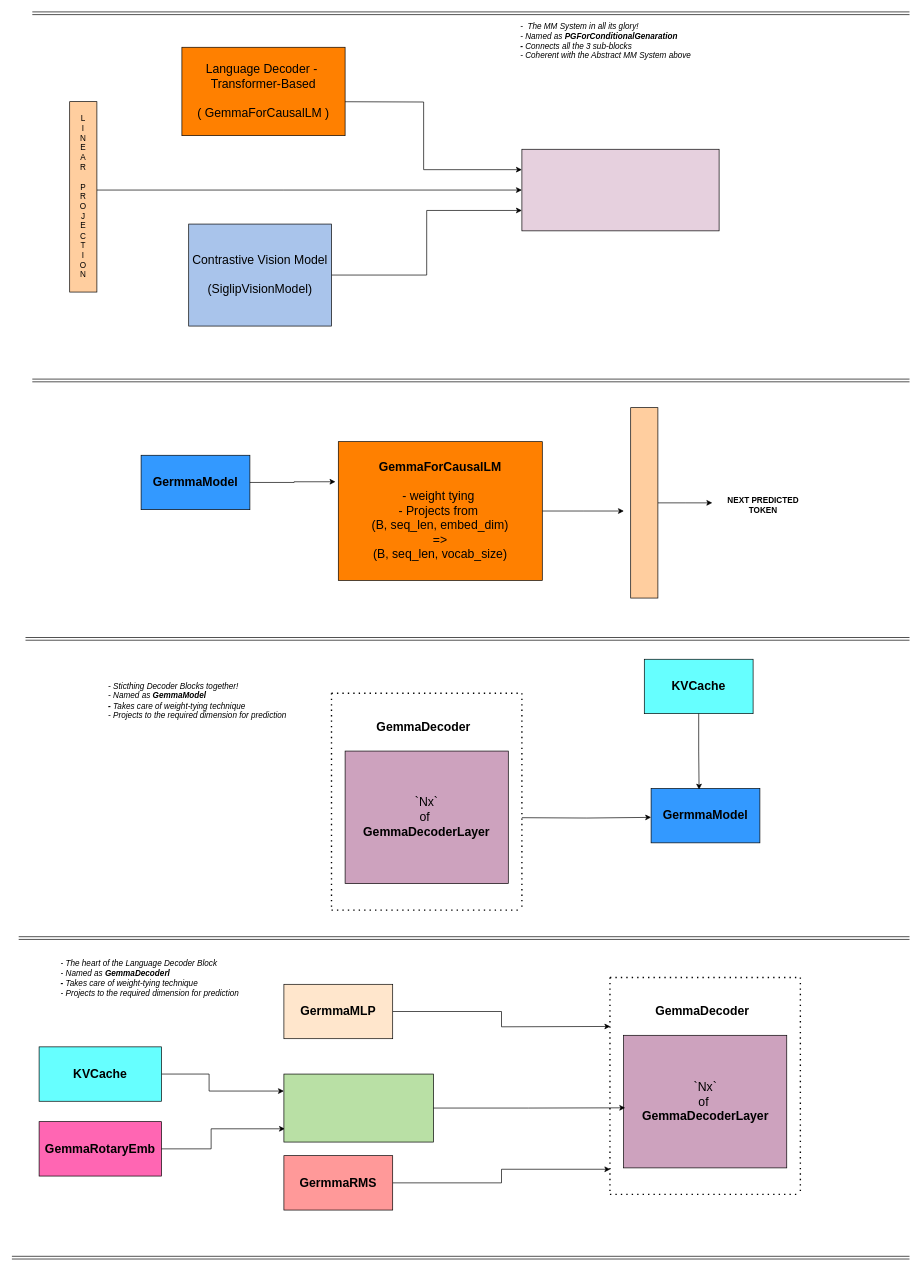
The diagram is 921 pixels wide and 1271 high, and some of its shapes have lost their labels. The shapes that lost their labels are listed below. From the top down, each one's centre as x and y in pixels, then its label:
At (x=620, y=190): "PGForCondGen".
At (x=644, y=502): "S O F T M A X".
At (x=358, y=1107): "GermmaAttention".
